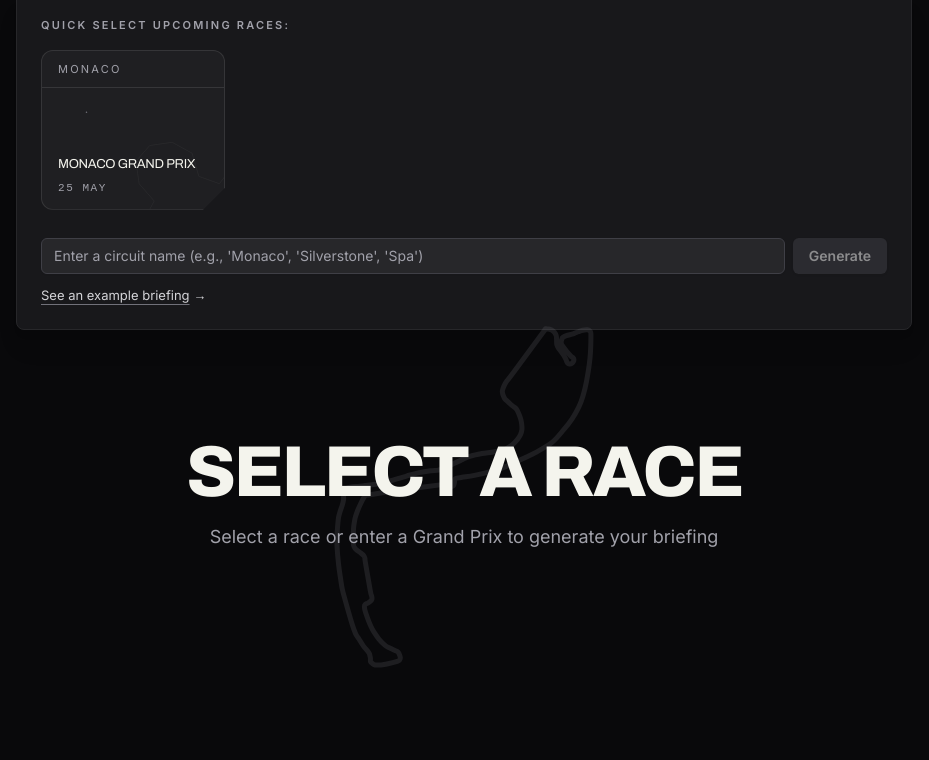
Test: BriefingChat empty state and reveal wiring › tells the card the stream is still writing, so the final block stays bare
The width and height of the screenshot is (929, 760).
Type "Monaco" into the field labelled "circuit name". click: (413, 256)
box: [41, 238, 785, 274]
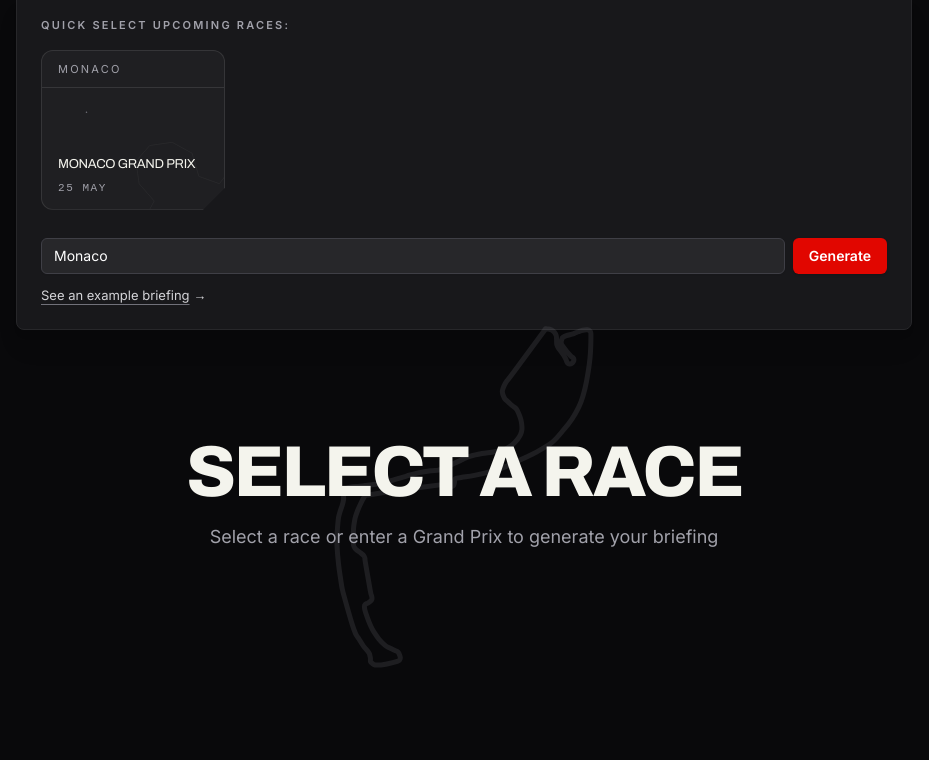
Click the button "Generate". click: (840, 256)
box: [793, 238, 887, 274]
Wait 200 ms
(page scrolled)
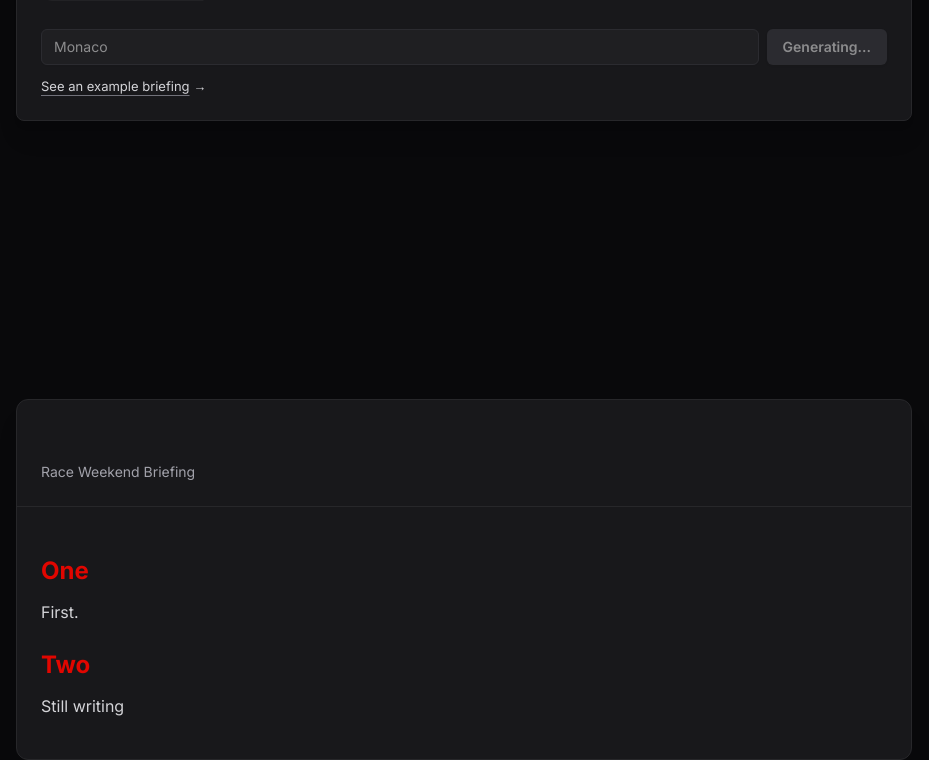
Expected: the text "Still writing" is shown, [41, 696, 124, 716]
Expected: the element showing "First." is shown, [41, 602, 79, 622]
